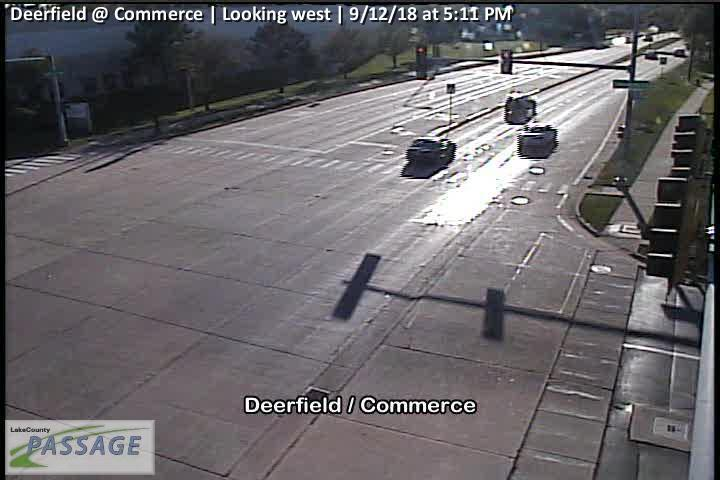Sedan: (405, 137, 455, 162), (517, 125, 556, 154), (503, 96, 536, 123), (644, 50, 657, 59), (673, 48, 685, 56)
